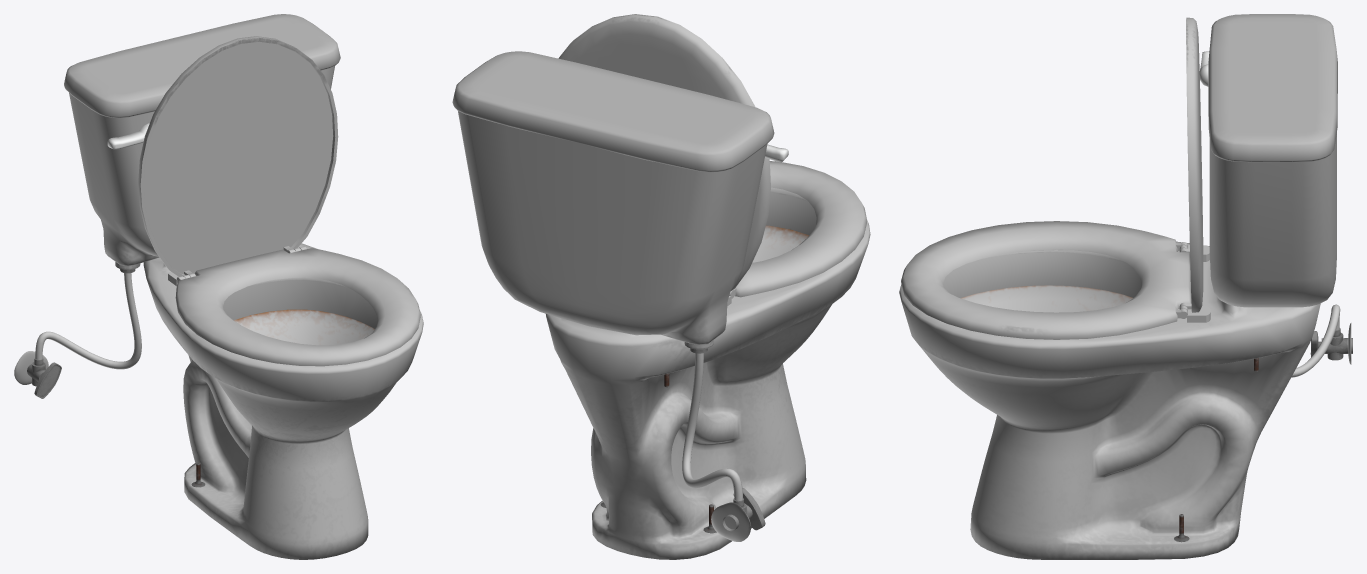
File: Toilet.gltf
3 views of the same model, side by side, from view 1: azimuth 30°, elevation 25°; view 2: azimuth 150°, elevation 25°; view 3: azimuth 270°, elevation 25° (orthographic). The views are drawn at different scales.
Parts seen in each view (by area): view 1: Toilet, ToiletSeatCover, ToiletSeat, ToiletFlushHandle; view 2: Toilet, ToiletSeatCover, ToiletSeat; view 3: Toilet, ToiletSeat, ToiletSeatCover.
Part boxes in pixels (<box>): Toilet: <box>14,14,423,559</box>; ToiletSeatCover: <box>138,36,338,277</box>; ToiletSeat: <box>175,246,420,366</box>; ToiletFlushHandle: <box>107,123,149,149</box>; Toilet: <box>452,51,870,559</box>; ToiletSeatCover: <box>558,14,770,291</box>; ToiletSeat: <box>729,161,866,298</box>; Toilet: <box>899,14,1352,559</box>; ToiletSeat: <box>901,221,1191,339</box>; ToiletSeatCover: <box>1179,17,1203,312</box>.
Size of the model in its own units: 0.4783 by 0.7435 by 0.607.
1 material, 1 textured.
